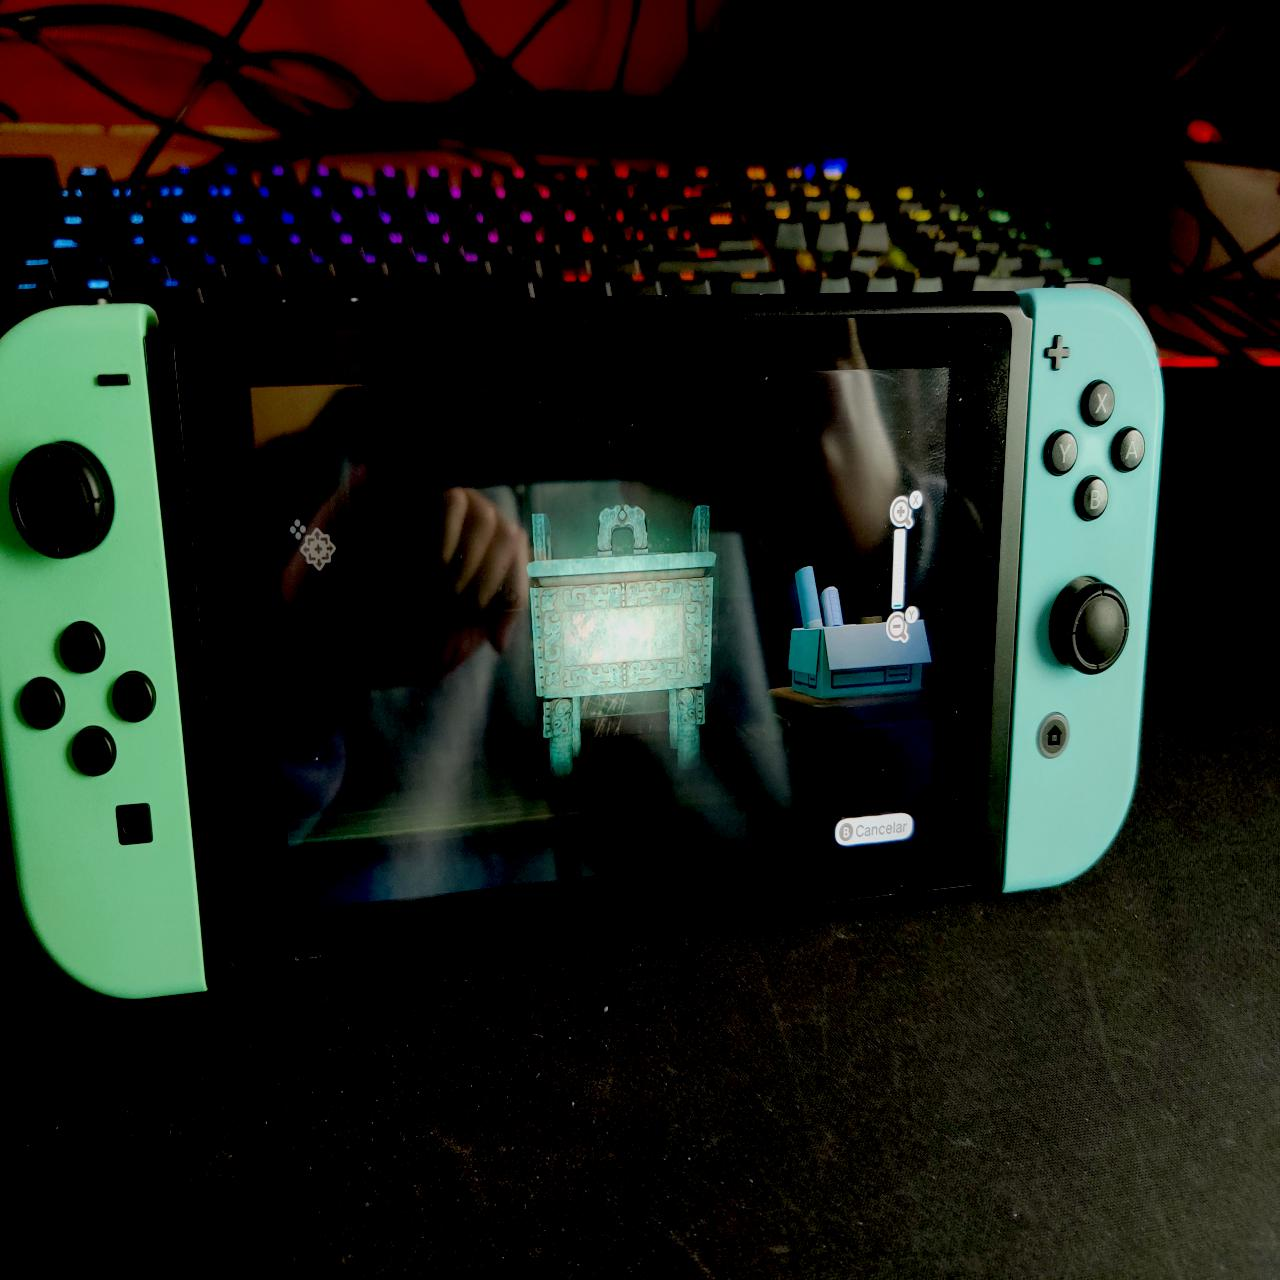HoumuwuDingFake: (519, 506, 727, 779)
